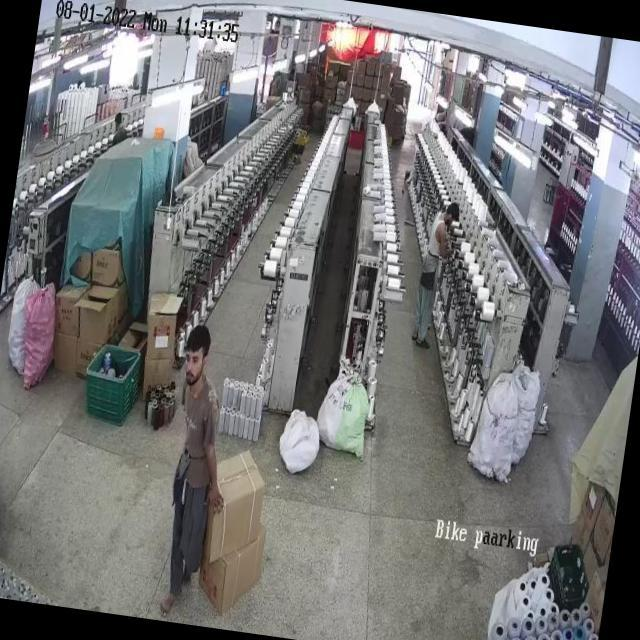person: (152, 328, 239, 584), (404, 195, 461, 358)
